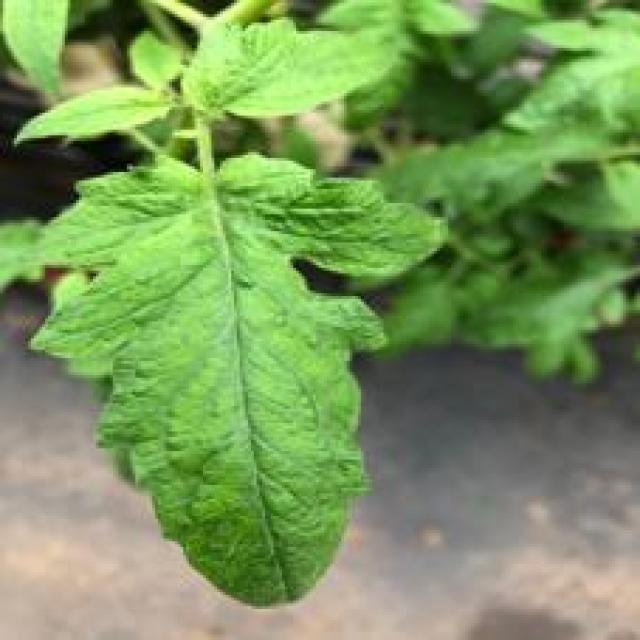Tomato healthy leaf: (12, 153, 450, 610), (184, 18, 396, 121), (12, 86, 180, 143)
